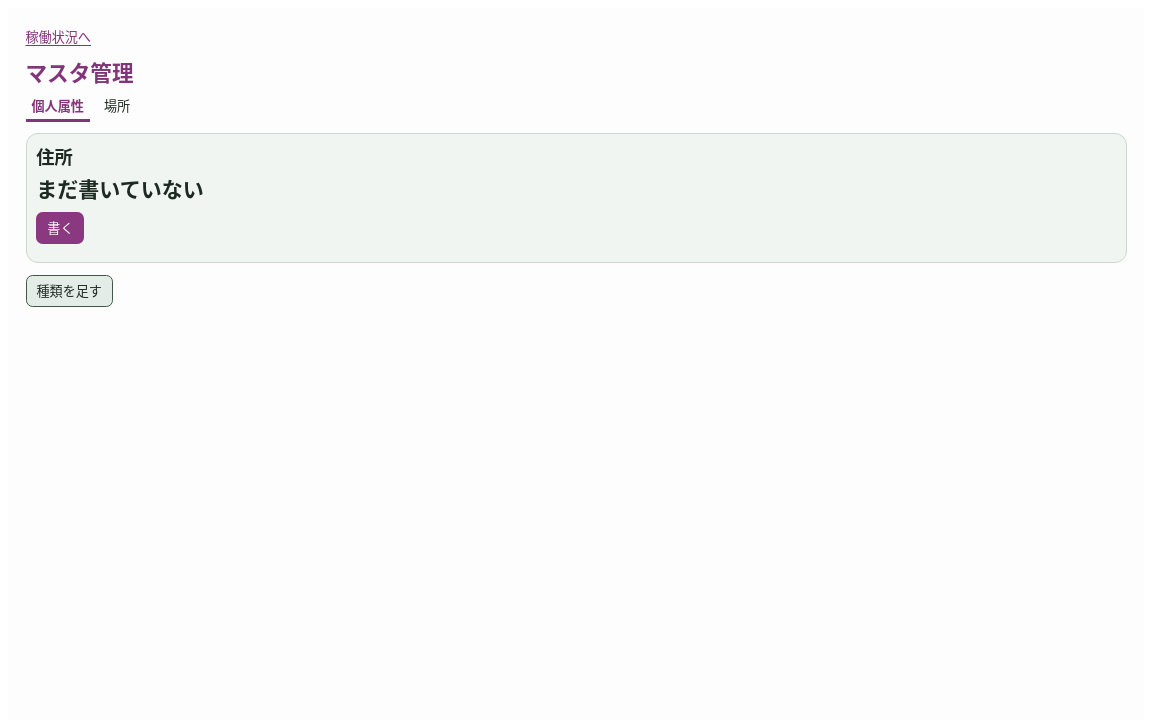
「書く」のフォーム › 選んだ精度の欄だけが出る
Click the button "書く": (60, 228) [36,212,84,244]
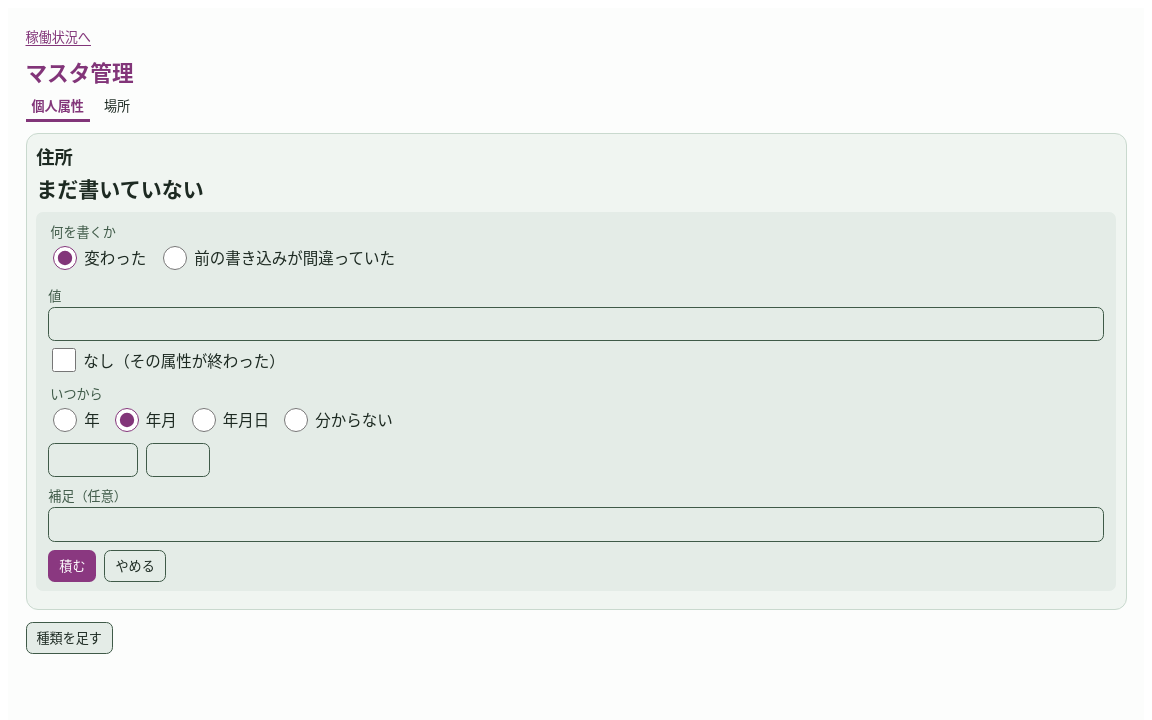
Now the element with test id "write-form" is shown, box [36,212,1116,591]
Now the field named "いつから（年）" is shown, box [48,443,138,477]
Now the field named "いつから（月）" is shown, box [146,443,210,477]
Click the radio button labelled "年": (65, 420) [53,408,77,432]
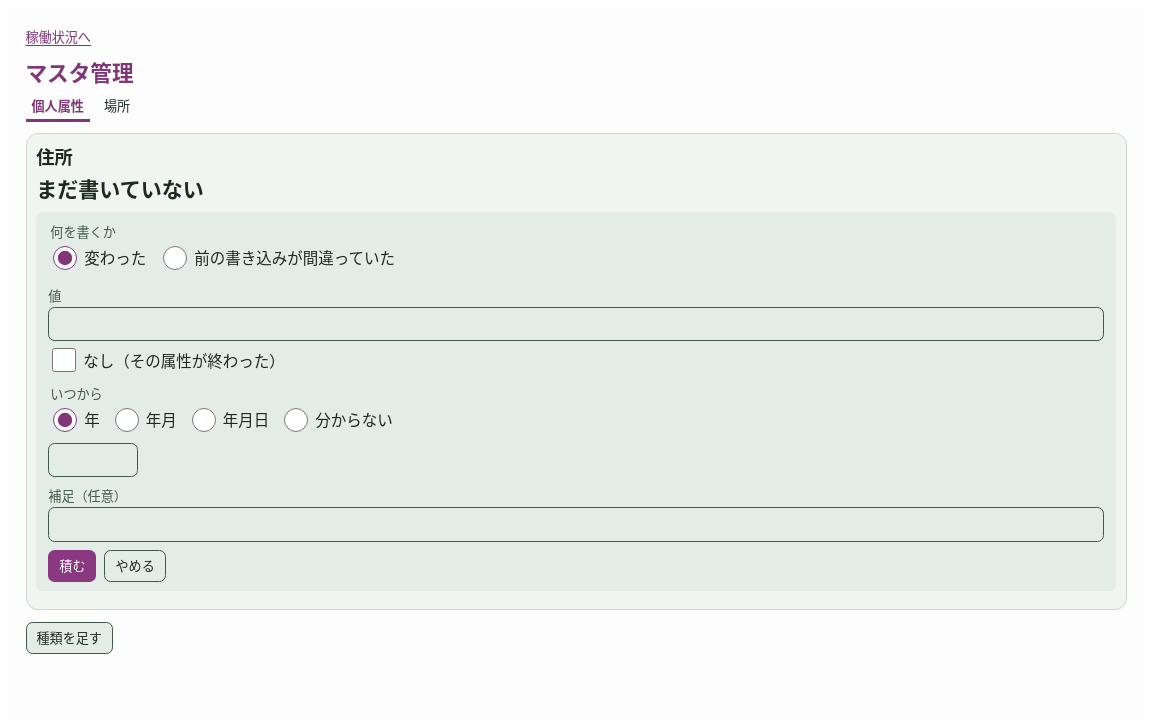
Now the field named "いつから（年）" is shown, box [48,443,138,477]
Now the field labelled "いつから（月）" is gone
Click the radio button labelled "年月日": (204, 420) [192,408,216,432]
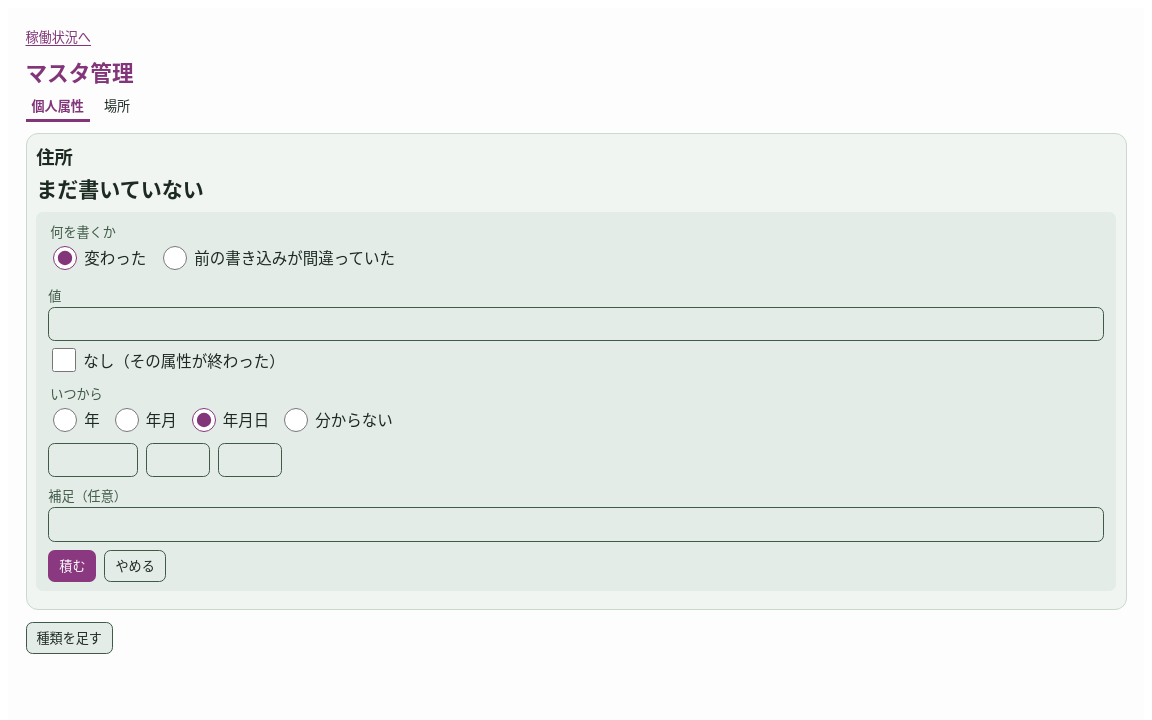
Now the field named "いつから（日）" is shown, box [218,443,282,477]
Click the radio button labelled "分からない": (296, 420) [284,408,308,432]
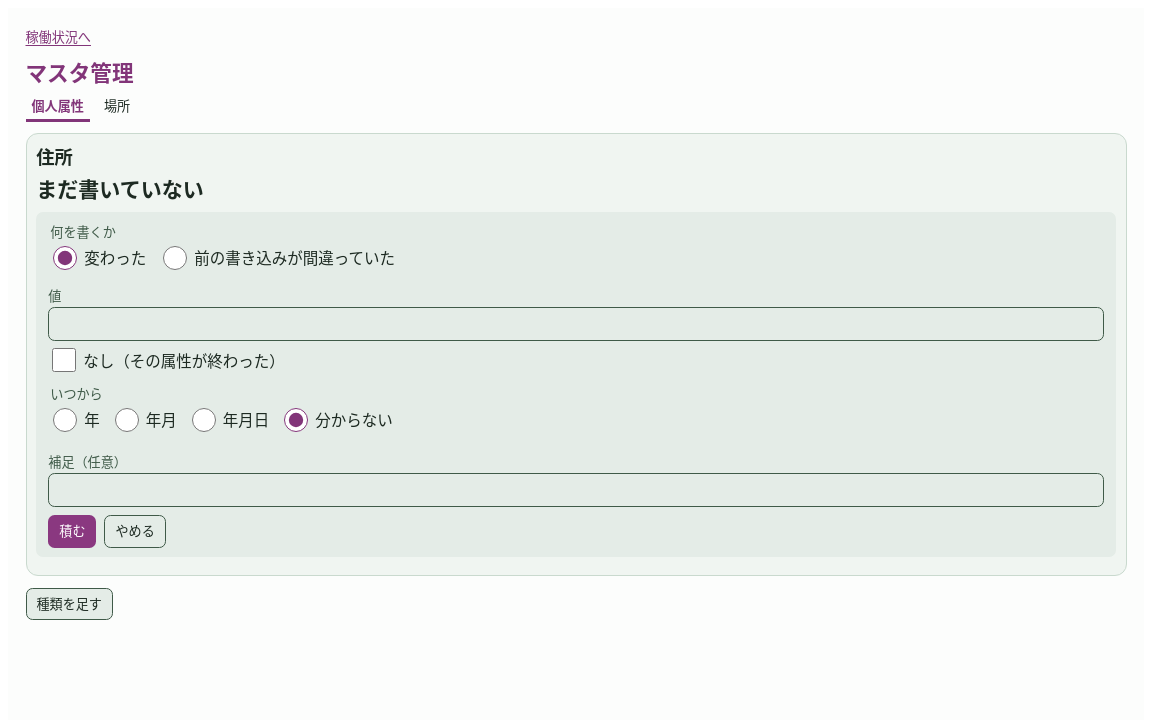
Now the field labelled "いつから（年）" is gone
Now the field labelled "いつから（月）" is gone
Now the field labelled "いつから（日）" is gone
